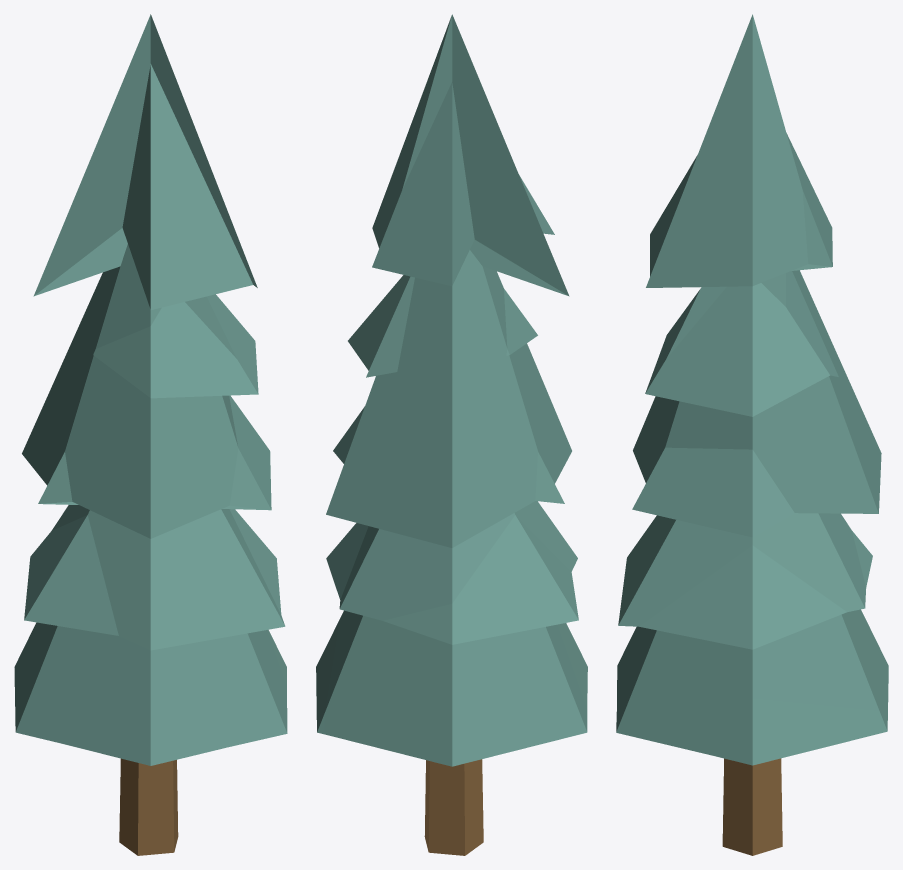
File: Pine_002.fbx
3 renders of one model, left to right at view 1: azimuth 30°, elevation 25°; view 2: azimuth 150°, elevation 25°; view 3: azimuth 270°, elevation 25°, orthographic.
Visible parts, largest first — view 1: Pine.002; view 2: Pine.002; view 3: Pine.002.
Part boxes in pixels (x1,y1,x2,y2): Pine.002: [14, 14, 287, 855]; Pine.002: [316, 14, 587, 855]; Pine.002: [616, 14, 888, 855].
Size of the model in its own units: 4.24 by 12.38 by 3.69.
